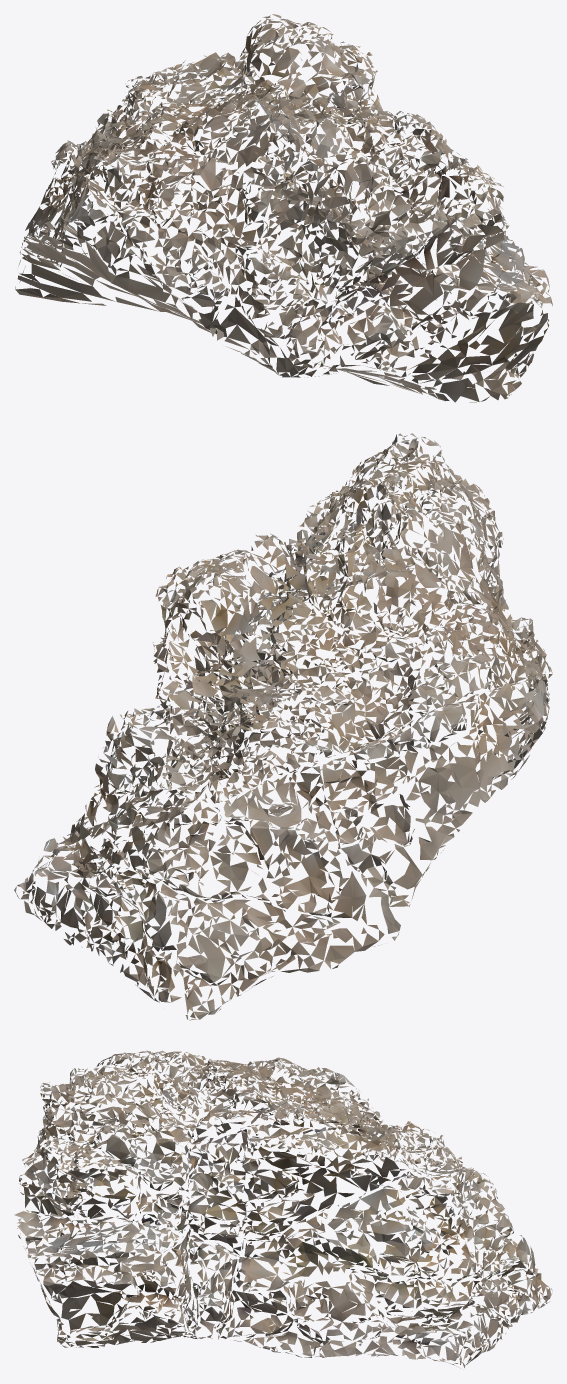
Rendered from boulder_01.glb.
3 renders of one model, top to bottom at view 1: azimuth 30°, elevation 25°; view 2: azimuth 150°, elevation 25°; view 3: azimuth 270°, elevation 25°, orthographic. The views are drawn at different scales.
Visible parts, largest first — view 1: geometry_0; view 2: geometry_0; view 3: geometry_0.
Part boxes in pixels (x1=…): geometry_0: x1=15, y1=14, x2=552, y2=402; geometry_0: x1=14, y1=433, x2=552, y2=1020; geometry_0: x1=14, y1=1050, x2=552, y2=1368.
Size of the model in its own units: 1.27 by 1 by 1.83.
